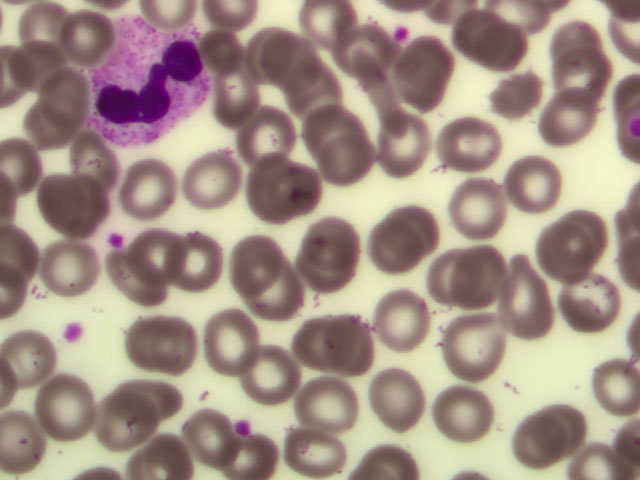Platelets: (58, 318, 88, 347), (105, 232, 127, 247), (233, 420, 252, 437), (393, 23, 409, 43)
RBC: (62, 9, 112, 59), (13, 38, 63, 88), (43, 72, 93, 122), (26, 98, 76, 148), (40, 181, 90, 231), (71, 185, 121, 235), (62, 146, 112, 196), (132, 168, 182, 218), (191, 153, 241, 203), (239, 114, 289, 164), (205, 73, 255, 123), (202, 31, 252, 81), (246, 25, 296, 75), (288, 43, 338, 93), (289, 63, 339, 113), (298, 90, 348, 140), (320, 124, 370, 174), (251, 160, 301, 210), (305, 216, 355, 266), (300, 249, 350, 299), (261, 272, 311, 322), (229, 244, 279, 294), (175, 236, 225, 286), (133, 231, 183, 281), (108, 256, 158, 306), (43, 242, 93, 292), (6, 329, 56, 379), (40, 383, 90, 433), (1, 408, 51, 458), (91, 398, 141, 448), (129, 382, 179, 432), (121, 315, 171, 365), (165, 322, 215, 372), (202, 305, 252, 355), (236, 349, 286, 399), (292, 325, 342, 375), (328, 316, 378, 366), (372, 296, 422, 346), (370, 228, 420, 278), (387, 202, 437, 252), (455, 181, 505, 231), (505, 159, 555, 209), (447, 121, 497, 171), (390, 123, 440, 173), (356, 80, 406, 130), (339, 24, 389, 74), (297, 3, 347, 53), (392, 54, 442, 104), (412, 39, 462, 89), (449, 16, 499, 66), (480, 22, 530, 72), (505, 71, 555, 121), (555, 19, 605, 69), (557, 49, 607, 99), (548, 84, 598, 134), (530, 231, 580, 281), (565, 211, 615, 261), (564, 273, 614, 323), (496, 280, 546, 330), (464, 254, 514, 304), (431, 260, 481, 310), (449, 319, 499, 369), (437, 396, 487, 446), (369, 371, 419, 421), (297, 383, 347, 433), (289, 426, 339, 476), (233, 430, 283, 480), (182, 413, 232, 463), (152, 429, 202, 479), (511, 414, 561, 464), (551, 395, 601, 445), (590, 360, 640, 410), (10, 1, 60, 50)
WBC: (90, 17, 211, 145)
